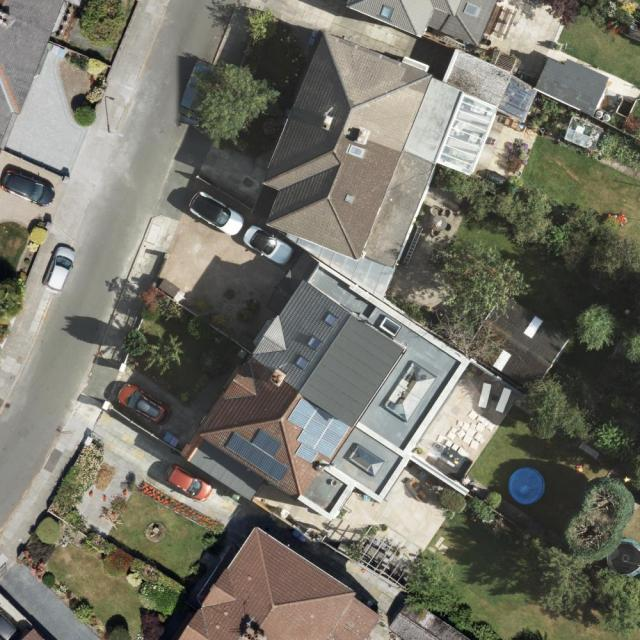roof: (184, 31, 608, 522), (170, 522, 384, 640), (466, 288, 572, 396), (0, 0, 65, 160), (343, 0, 498, 47)
skylight: (437, 93, 500, 177), (382, 361, 438, 424), (345, 440, 385, 479), (344, 141, 367, 162), (379, 317, 403, 337), (304, 334, 326, 351), (462, 0, 481, 19), (293, 354, 310, 371), (377, 3, 394, 20), (322, 312, 338, 325)
solar: (285, 397, 352, 463), (225, 429, 290, 484)
